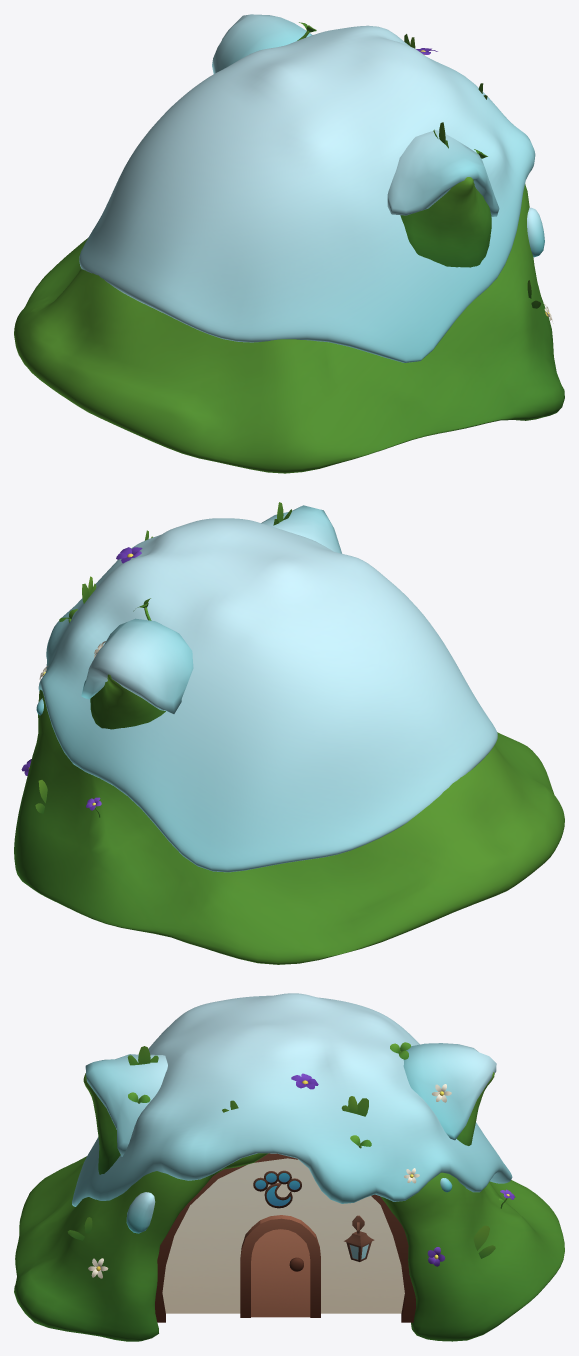
Rendered from CasaNieve_V2.fbx.
3 views of the same model, one above another, from view 1: azimuth 30°, elevation 25°; view 2: azimuth 150°, elevation 25°; view 3: azimuth 270°, elevation 25° (orthographic). The views are drawn at different scales.
Visible parts, largest first — view 1: Snow, Casa, Snow4, Snow3, Snow1; view 2: Snow, Casa, Snow3, Snow4; view 3: Casa, Snow, Snow3, Snow4, Snow1.
Part boxes in pixels (x1,y1,x2,y2): Snow: [79, 25, 535, 362]; Casa: [14, 22, 564, 473]; Snow4: [387, 130, 499, 216]; Snow3: [212, 14, 312, 73]; Snow1: [527, 207, 544, 257]; Snow: [38, 518, 497, 872]; Casa: [14, 502, 564, 964]; Snow3: [81, 618, 193, 713]; Snow4: [261, 505, 341, 553]; Casa: [14, 1042, 564, 1341]; Snow: [72, 993, 512, 1206]; Snow3: [403, 1043, 496, 1140]; Snow4: [85, 1054, 167, 1156]; Snow1: [126, 1192, 155, 1233].
Bounding box in the file's own units: 14 × 8.62 × 15.66.
